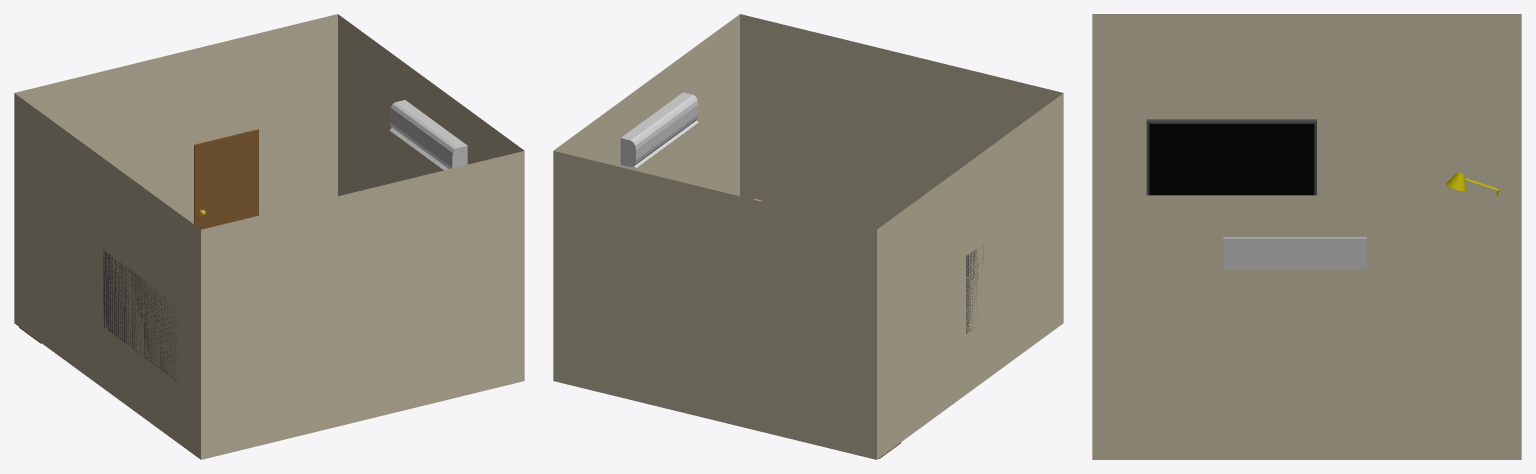
File: room.glb
3 renders of one model, left to right at view 1: azimuth 30°, elevation 25°; view 2: azimuth 150°, elevation 25°; view 3: azimuth 270°, elevation 25°, orthographic. The views are drawn at different scales.
Parts seen in each view (by area): view 1: node-0; view 2: node-0; view 3: node-0.
Boxes of the visible parts, x1,y1,x2,y2 form: node-0: [14, 14, 524, 459]; node-0: [553, 14, 1063, 459]; node-0: [1092, 14, 1521, 459].
Bounding box in the file's own units: 26.23 × 17.92 × 26.12.
